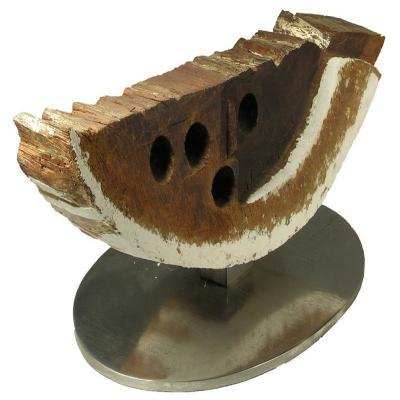sculpture: (13, 10, 386, 393)
